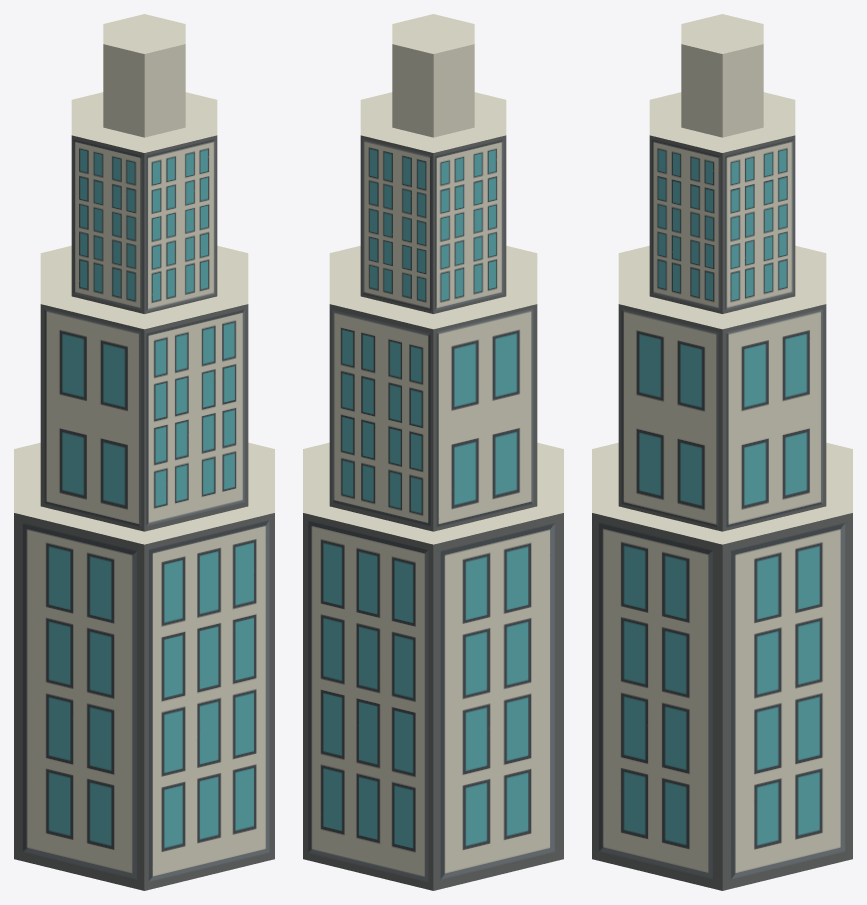
File: building set 2_15.fbx
3 views of the same model, side by side, from view 1: azimuth 30°, elevation 25°; view 2: azimuth 150°, elevation 25°; view 3: azimuth 270°, elevation 25° (orthographic).
Parts seen in each view (by area): view 1: pCylinder9; view 2: pCylinder9; view 3: pCylinder9.
Part boxes in pixels (x1,y1,x2,y2): pCylinder9: (14, 14, 274, 890); pCylinder9: (303, 14, 563, 890); pCylinder9: (592, 14, 852, 890).
Bounding box in the file's own units: 3.31 × 9.6 × 2.86.
